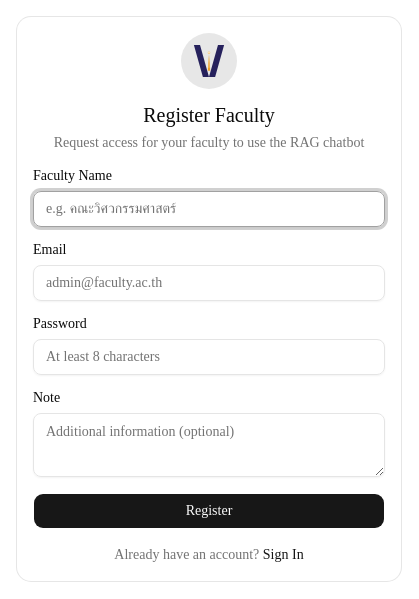
Test: RegisterPage › submits registration and shows success message
Type "Engineering" into the field labelled "Faculty Name". click: (209, 209)
box: [33,191,385,227]
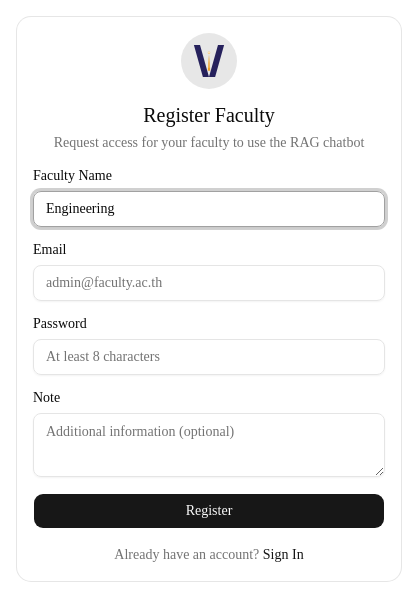
Type "eng@cu.ac.th" into the field labelled "Email". click: (209, 283)
box: [33,265,385,301]
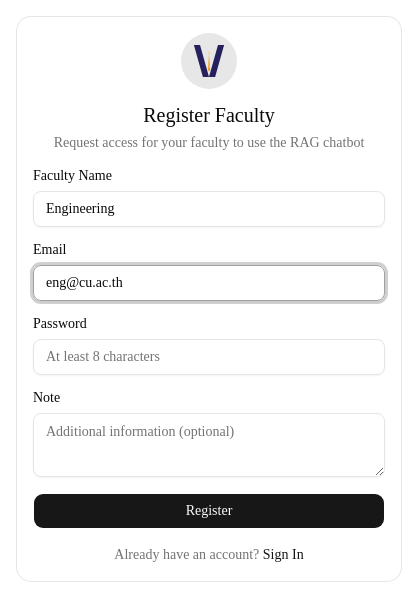
Type "securepass123" into the password field labelled "Password". click: (209, 357)
box: [33,339,385,375]
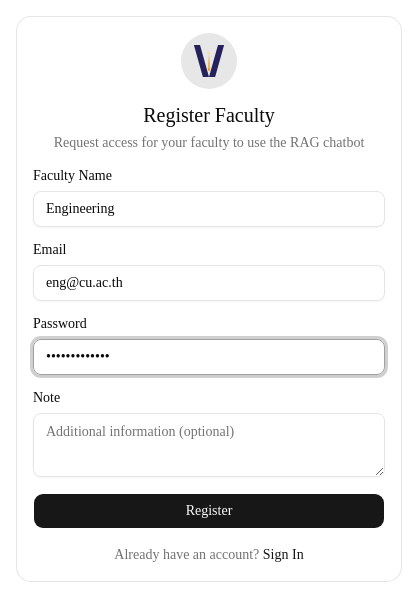
Click the button "Register". click: (209, 511)
box: [33,493,385,529]
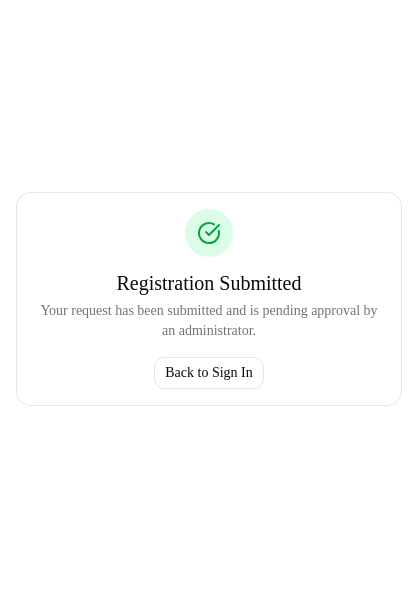
Now the text "Registration Submitted" is shown, box [116,272,302,294]
